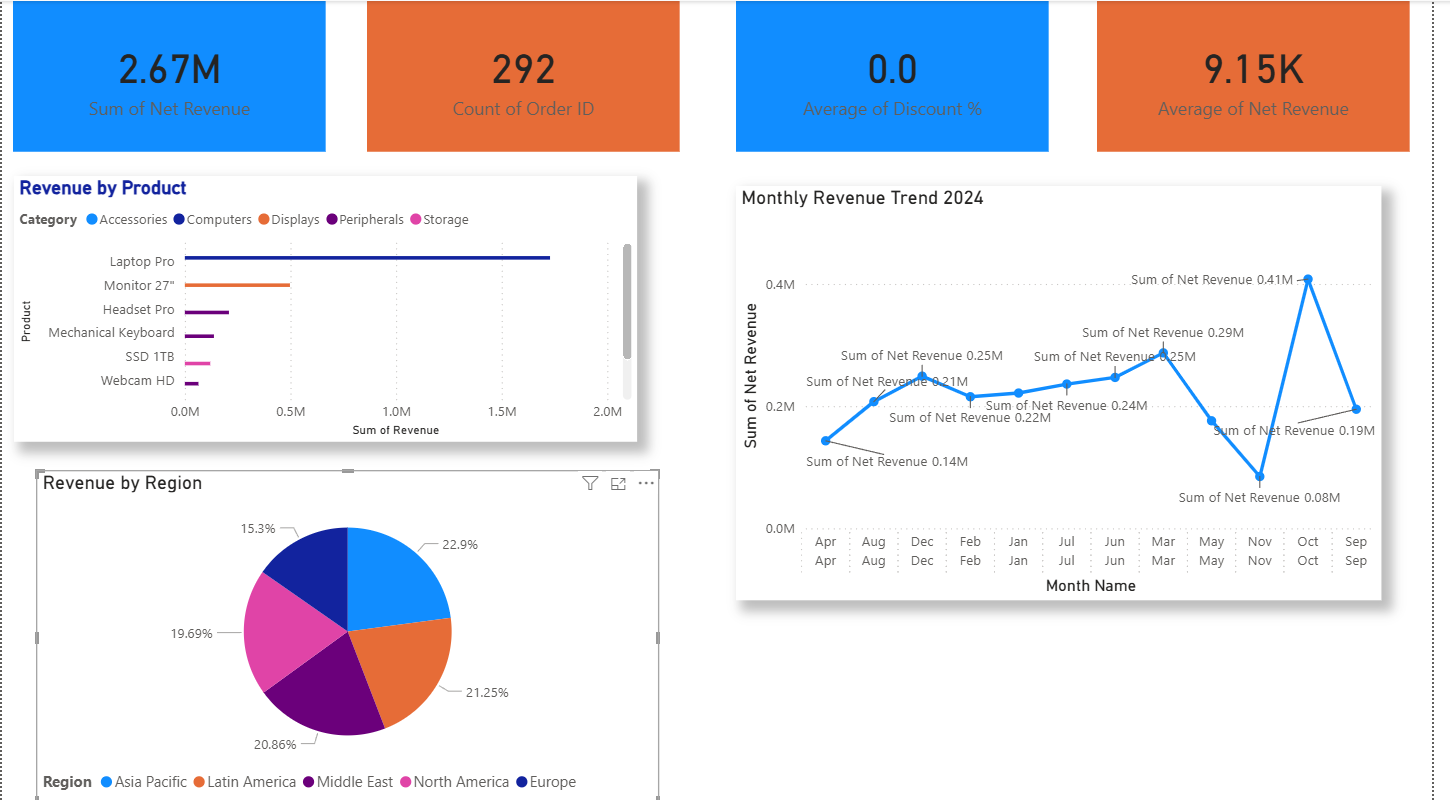

What the dashboard file says about the page in this screenshot:
{"tool":"powerbi","page":{"name":"Page 1","canvas":[1280,720],"ordinal":0},"visuals":[{"type":"card","fields":{"Values":["Sum(Sales Data.Net Revenue)"]},"box":[9.7,0,280.1,135.2],"z":0},{"type":"card","fields":{"Values":["CountNonNull(Sales Data.Order ID)"]},"box":[326.8,0,280.1,135.2],"z":1000},{"type":"card","fields":{"Values":["Avg(Sales Data.Discount %)"]},"box":[657.5,0,280.1,135.2],"z":2000},{"type":"card","fields":{"Values":["Avg(Sales Data.Net Revenue)"]},"box":[980.4,0,280.1,135.2],"z":3000},{"type":"clusteredBarChart","title":"Revenue by Product","fields":{"Category":["Sales Data.Product"],"Y":["Sum(Sales Data.Revenue)"],"Series":["Sales Data.Category"]},"box":[10.7,156.6,558.3,238.3],"z":4000},{"type":"lineChart","title":" Monthly Revenue Trend 2024","fields":{"Category":["Sales Data.Month","Sales Data.Month Name"],"Y":["Sum(Sales Data.Net Revenue)"]},"box":[657.5,165.3,577.8,370.6],"z":5000},{"type":"pieChart","title":"Revenue by Region","fields":{"Category":["Sales Data.Region"],"Y":["Sum(Sales Data.Net Revenue)"]},"box":[30.2,420.2,558.3,299.6],"z":6000}]}

Visuals, with their boxes in screenshot pixels (x1, y1, x2, y2), scaled from the page's 1280x720 canvas onto the 1450x800 screenshot:
card - Sum(Sales Data.Net Revenue): [11,0,328,150]
card - CountNonNull(Sales Data.Order ID): [370,0,688,150]
card - Avg(Sales Data.Discount %): [745,0,1062,150]
card - Avg(Sales Data.Net Revenue): [1111,0,1428,150]
"Revenue by Product" clusteredBarChart: [12,174,645,439]
" Monthly Revenue Trend 2024" lineChart: [745,184,1399,595]
"Revenue by Region" pieChart: [34,467,667,799]
